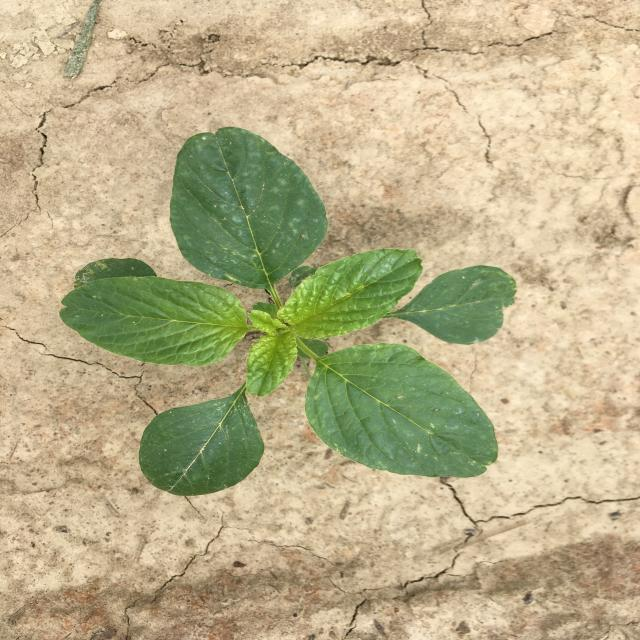PalmerAmaranth: (59, 126, 518, 496)
